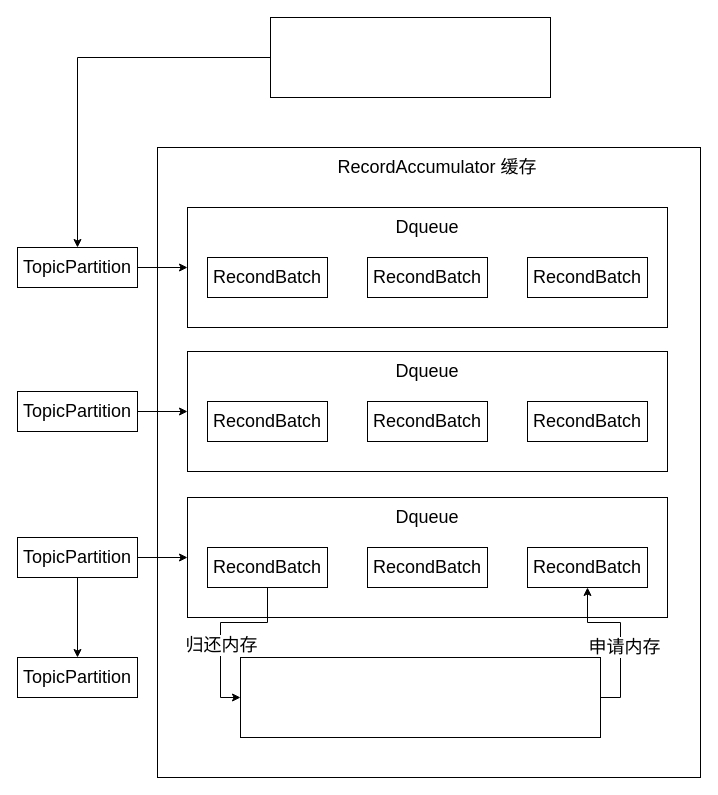
This 718x795 diagram has some shape labels left out. Each missing label, with the centre of its shape:
BufferPool 内存池: the point at 420,697
Partition 计算消息应该发送到的分区号: the point at 410,57
